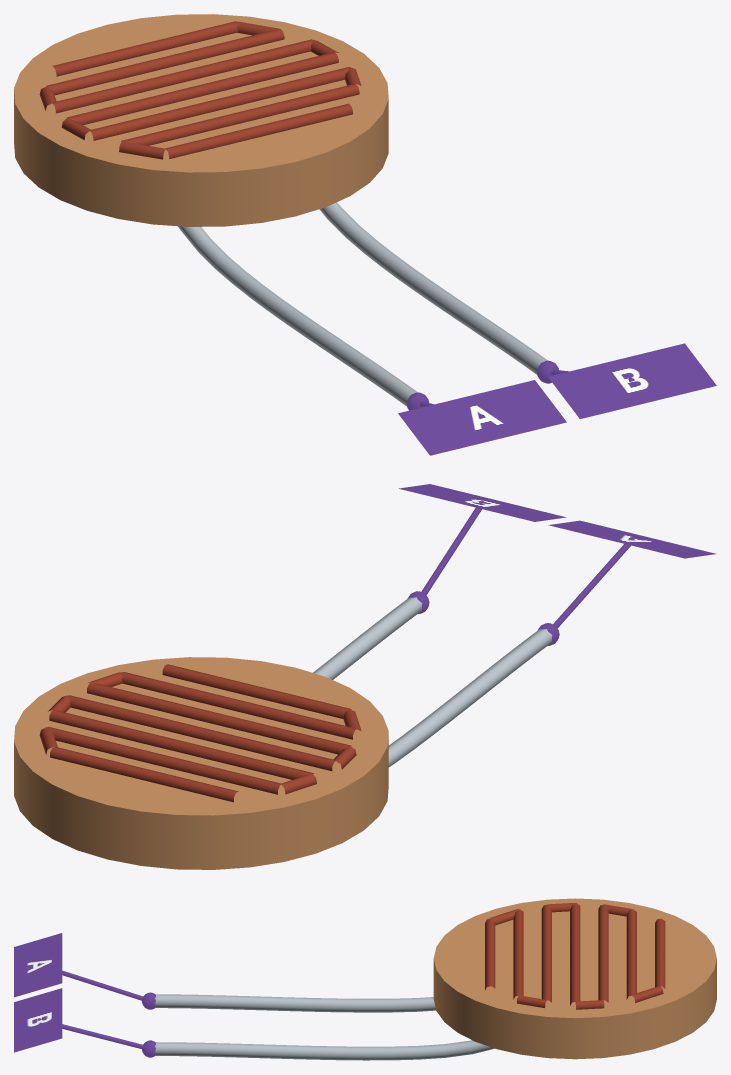
Rendered from ldr.glb.
3 renders of one model, top to bottom at view 1: azimuth 30°, elevation 25°; view 2: azimuth 150°, elevation 25°; view 3: azimuth 270°, elevation 25°, orthographic. The views are drawn at different scales.
Visible parts, largest first — view 1: ldr, A, B, Terminal labels; view 2: ldr, Terminal labels, A, B; view 3: ldr, B, A, Terminal labels.
Boxes of the visible parts, x1,y1,x2,y2 form: ldr: [14, 14, 547, 406]; A: [398, 380, 566, 455]; B: [548, 343, 716, 418]; Terminal labels: [406, 360, 634, 418]; ldr: [14, 597, 552, 869]; Terminal labels: [407, 500, 634, 645]; A: [548, 520, 715, 558]; B: [399, 484, 566, 521]; ldr: [155, 898, 716, 1060]; B: [14, 988, 62, 1052]; A: [14, 933, 62, 997]; Terminal labels: [38, 963, 155, 1057].
Size of the model in its own units: 0.01 by 0.00326 by 0.0248.
Materials: 7 (2 with a texture image).
